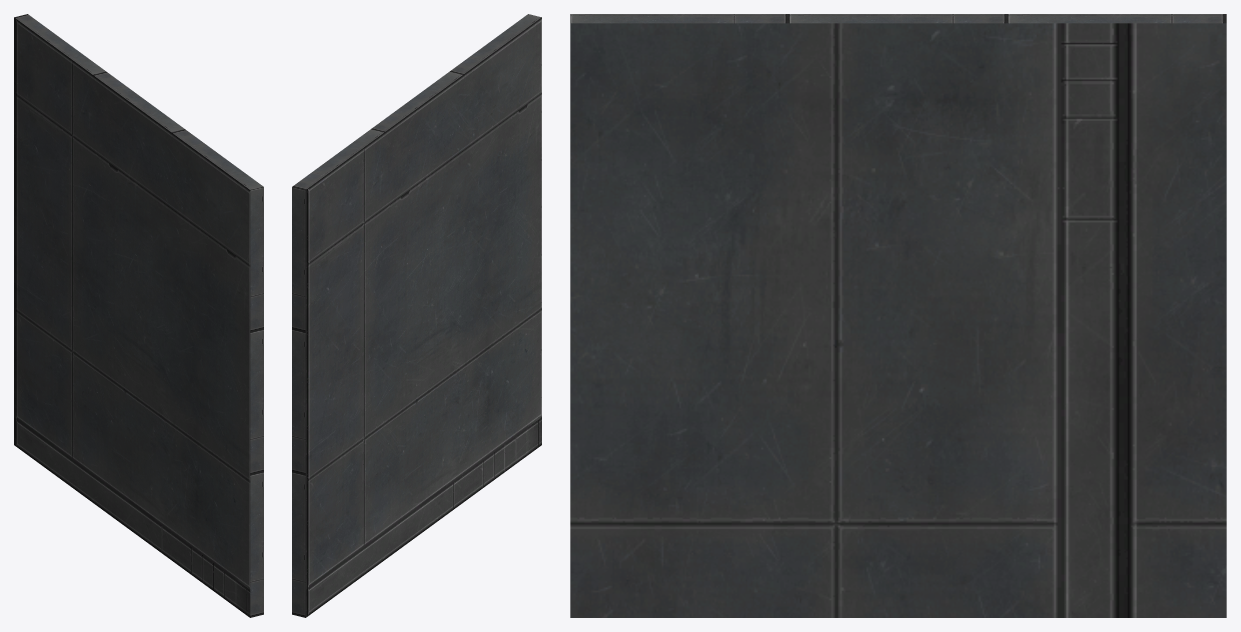
File: Neon_TubeWallA1.FBX
The picture shows the model from 3 angles, left to right: view 1: azimuth 30°, elevation 25°; view 2: azimuth 150°, elevation 25°; view 3: azimuth 270°, elevation 25°; orthographic projection. The views are drawn at different scales.
Parts seen in each view (by area): view 1: Neon_TubeWallA1; view 2: Neon_TubeWallA1; view 3: Neon_TubeWallA1.
Boxes of the visible parts, x1,y1,x2,y2 form: Neon_TubeWallA1: [14, 14, 263, 617]; Neon_TubeWallA1: [292, 14, 541, 617]; Neon_TubeWallA1: [570, 14, 1226, 617].
Bounding box in the file's own units: 1 × 30 × 30.
